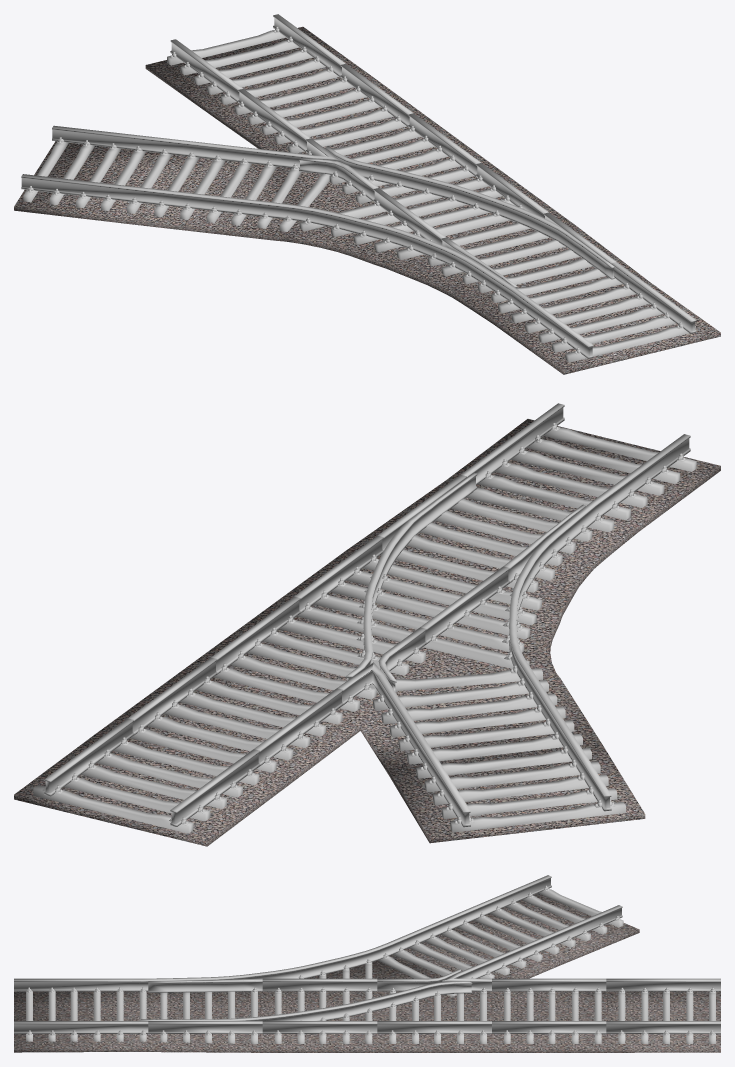
Rendered from track_fork2_left_concrete.fbx.
The picture shows the model from 3 angles, top to bottom: view 1: azimuth 30°, elevation 25°; view 2: azimuth 150°, elevation 25°; view 3: azimuth 270°, elevation 25°; orthographic projection. The views are drawn at different scales.
Visible parts, largest first — view 1: ground, concrete, rails; view 2: concrete, ground, rails; view 3: ground, rails, concrete.
Part boxes in pixels (x1,y1,x2,y2): ground: [14, 26, 720, 374]; concrete: [23, 30, 695, 362]; rails: [21, 14, 696, 358]; concrete: [33, 426, 696, 833]; ground: [14, 419, 720, 846]; rails: [43, 403, 690, 827]; ground: [14, 893, 720, 1052]; rails: [14, 875, 720, 1035]; concrete: [26, 889, 715, 1043].
Bounding box in the file's own units: 7.29 × 0.39 × 13.12.
